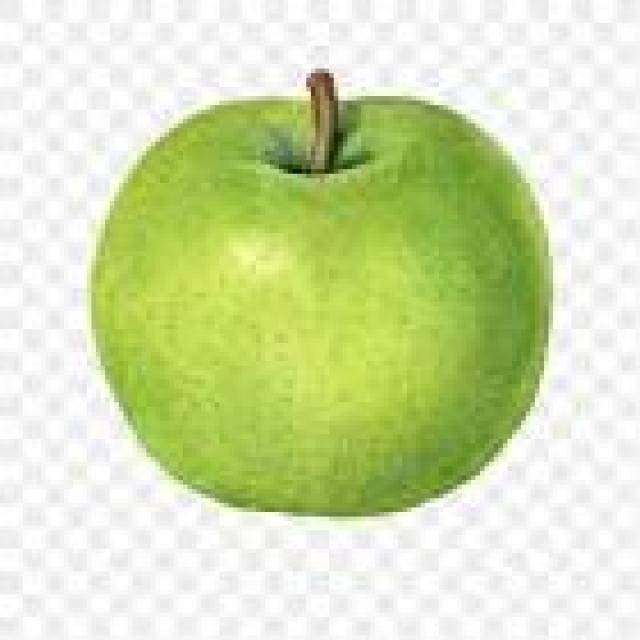apple: (91, 73, 549, 512)
